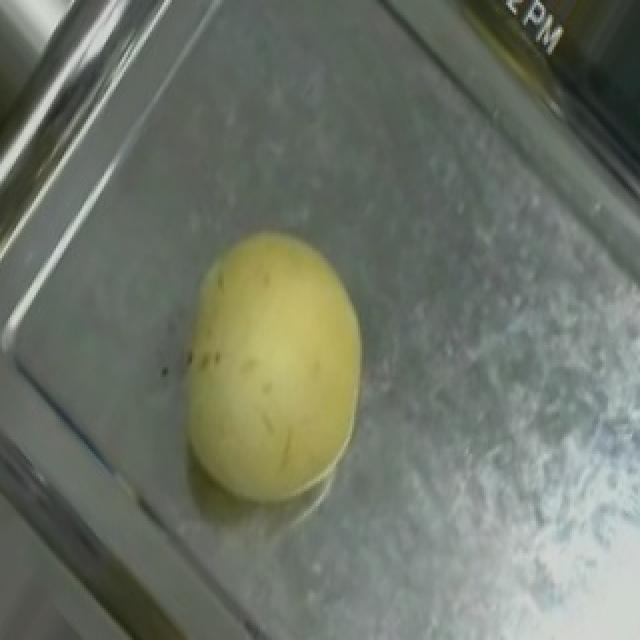Fruit: (130, 191, 408, 541)
